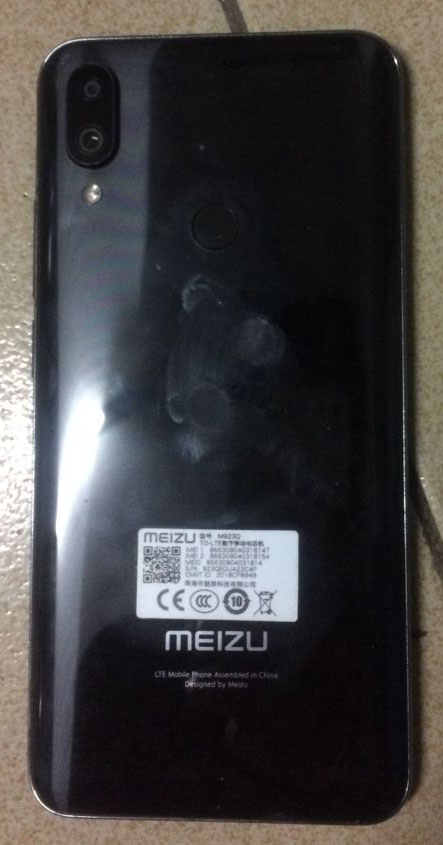phone: (21, 25, 425, 829)
